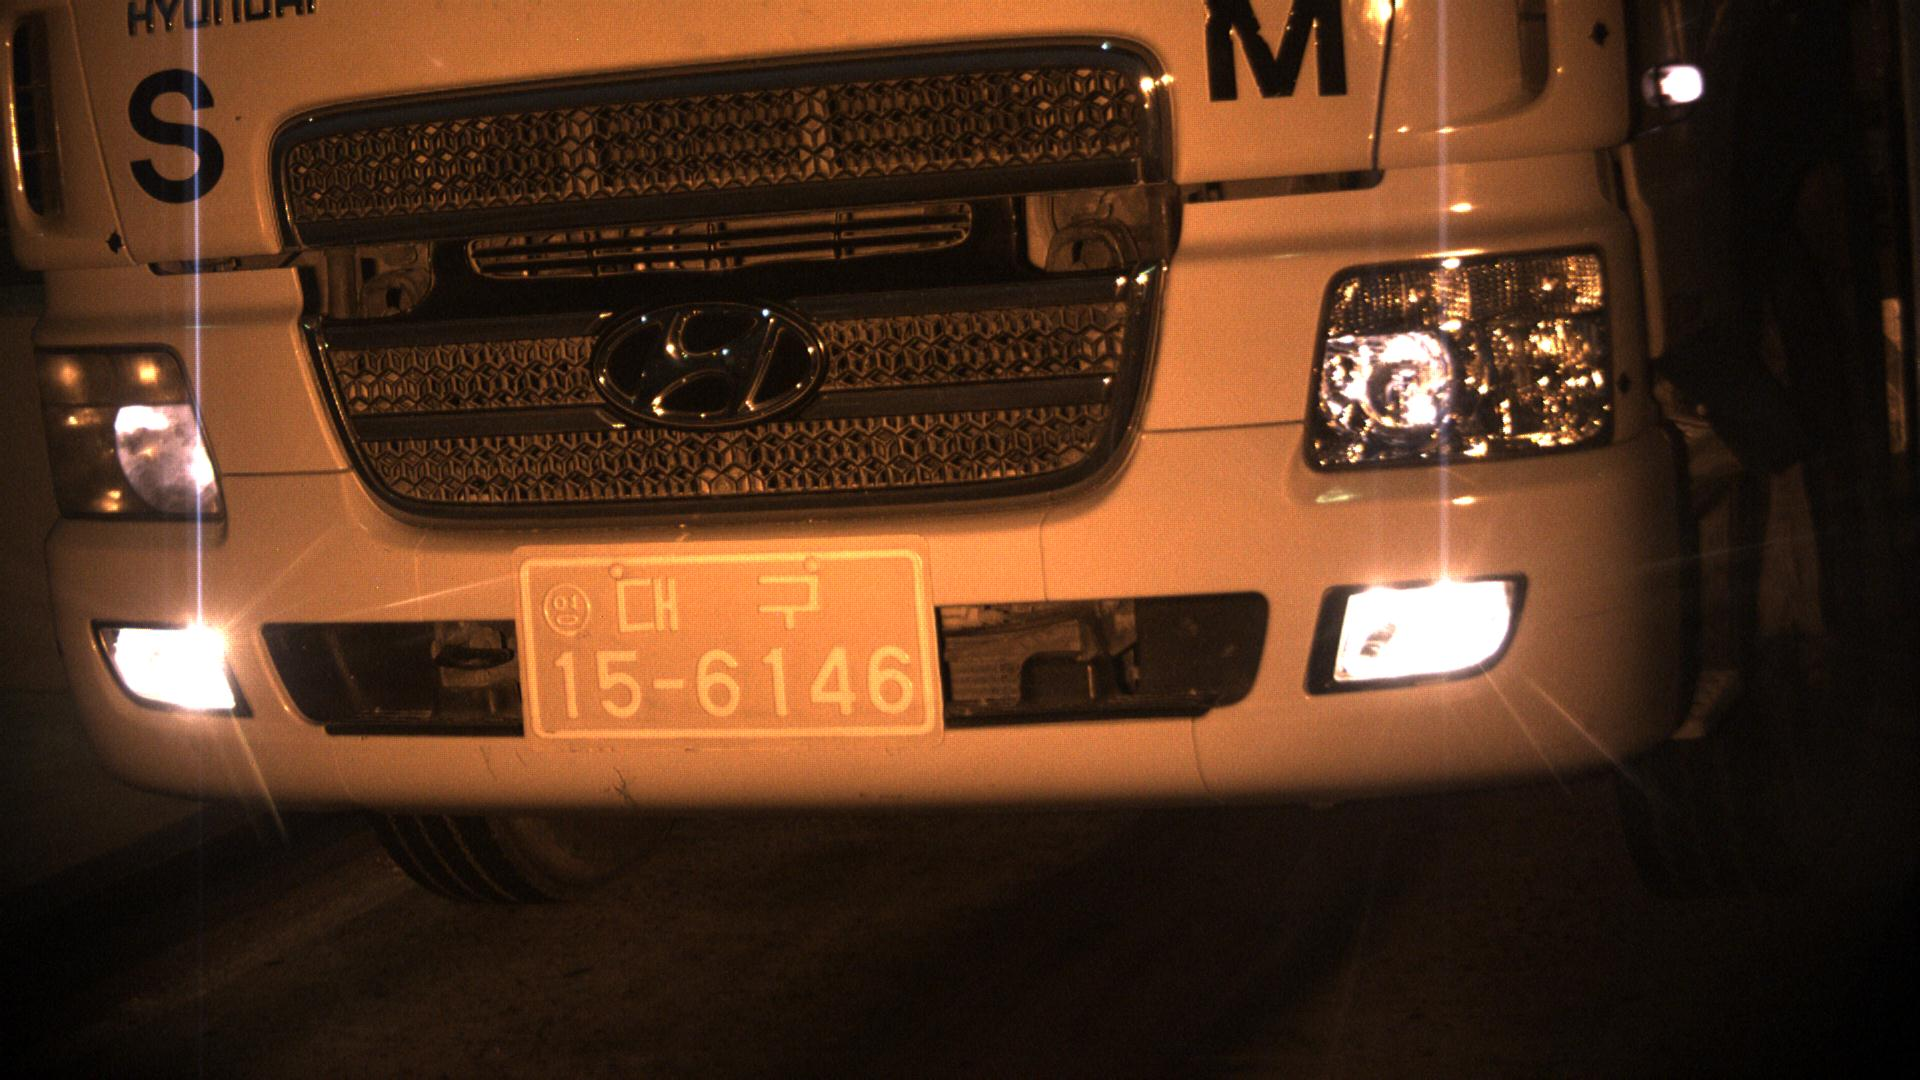car: (1, 1, 1917, 891)
plate: (515, 547, 941, 747)
